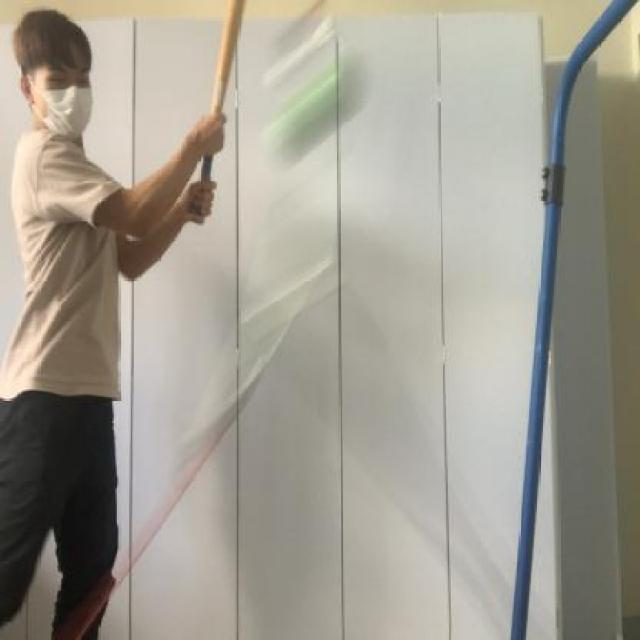baseball: (252, 48, 386, 165)
